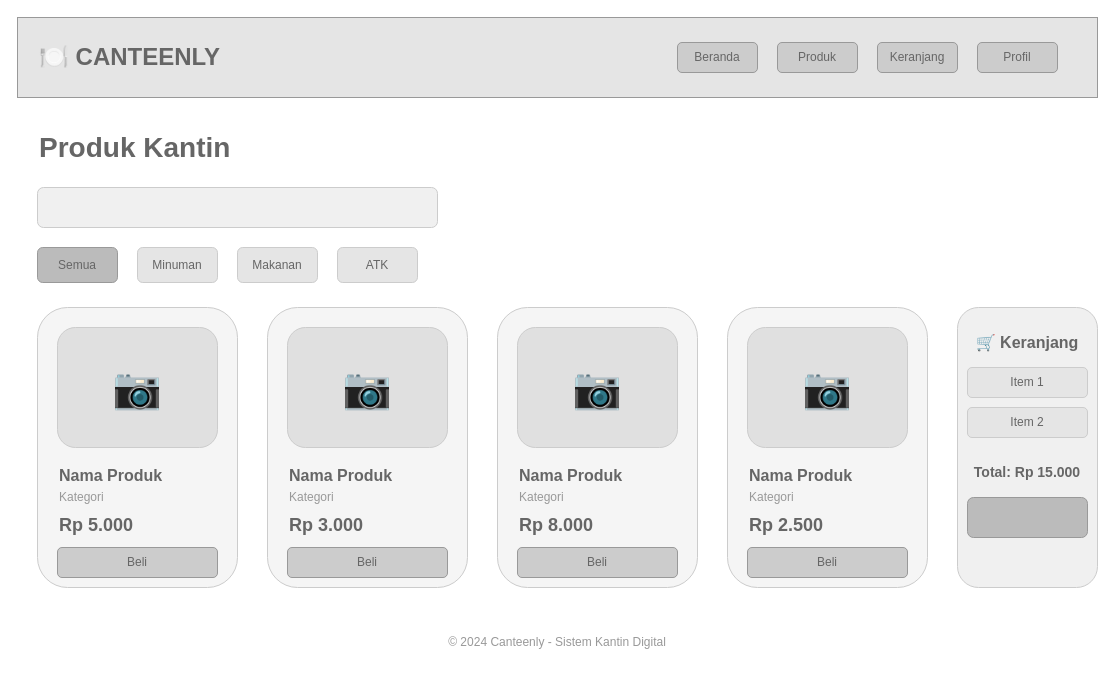
Some shapes in this 1115 by 675 pixel diagram are drawn without their labels. Here are the shapes that lost their labels. From the top down, the centre of each, then its label:
At (237,207): "🔍 Cari produk...".
At (1027,517): "Checkout".
